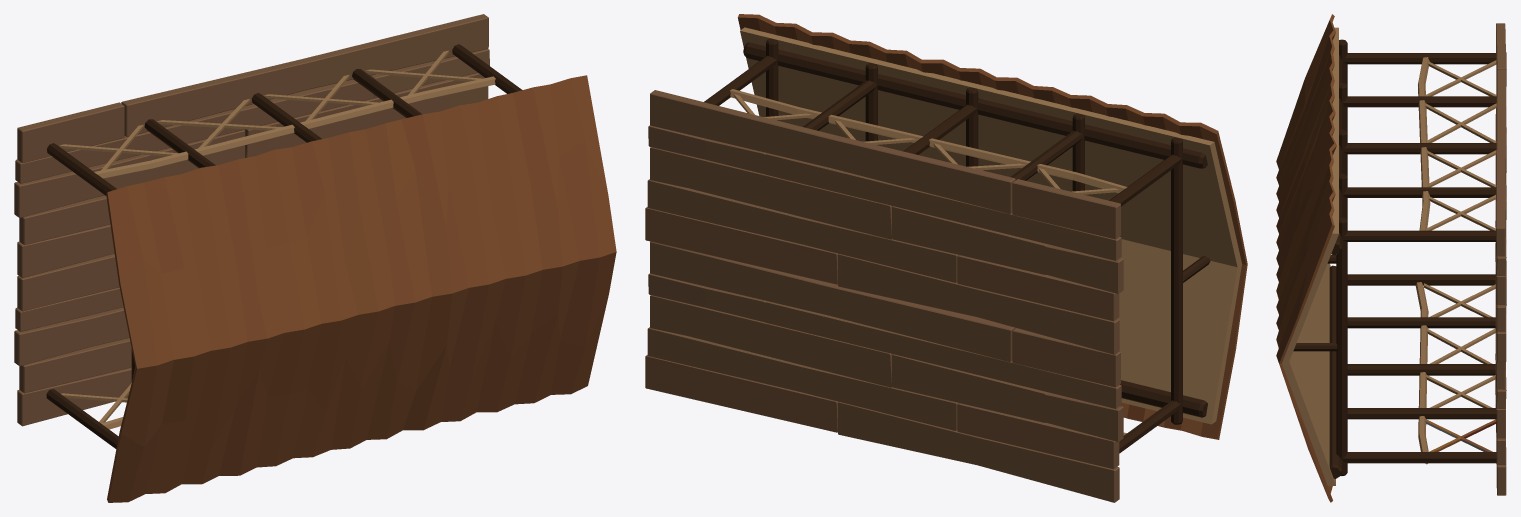
File: Bridge_02.fbx
3 views of the same model, side by side, from view 1: azimuth 30°, elevation 25°; view 2: azimuth 150°, elevation 25°; view 3: azimuth 270°, elevation 25° (orthographic). The views are drawn at different scales.
Parts seen in each view (by area): view 1: Bridge_1.0_LOW large; view 2: Bridge_1.0_LOW large; view 3: Bridge_1.0_LOW large.
Boxes of the visible parts, x1,y1,x2,y2 form: Bridge_1.0_LOW large: [14, 14, 616, 502]; Bridge_1.0_LOW large: [645, 14, 1247, 502]; Bridge_1.0_LOW large: [1276, 14, 1506, 502].
Bounding box in the file's own units: 875 × 546 × 402.
